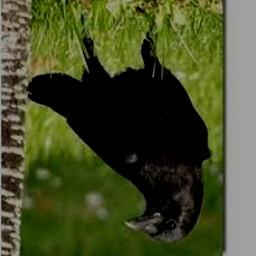Crow: (25, 0, 212, 245)
